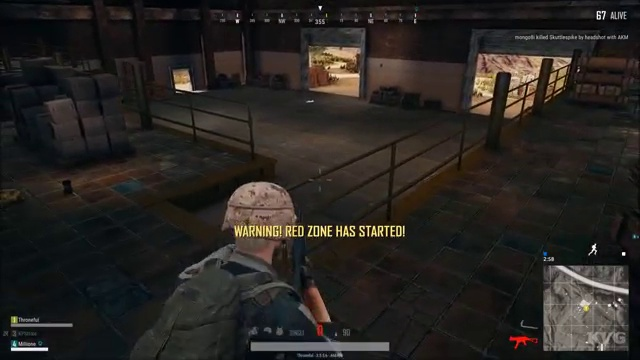Player: (158, 167, 352, 317)
